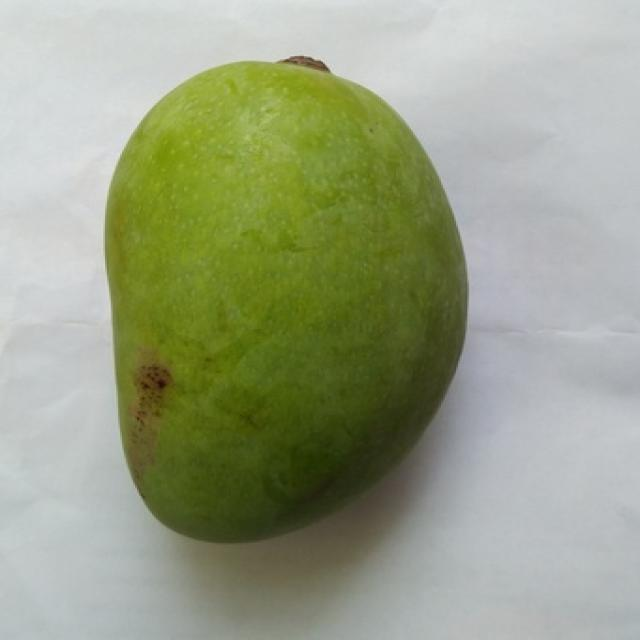Mango: (105, 61, 465, 541)
